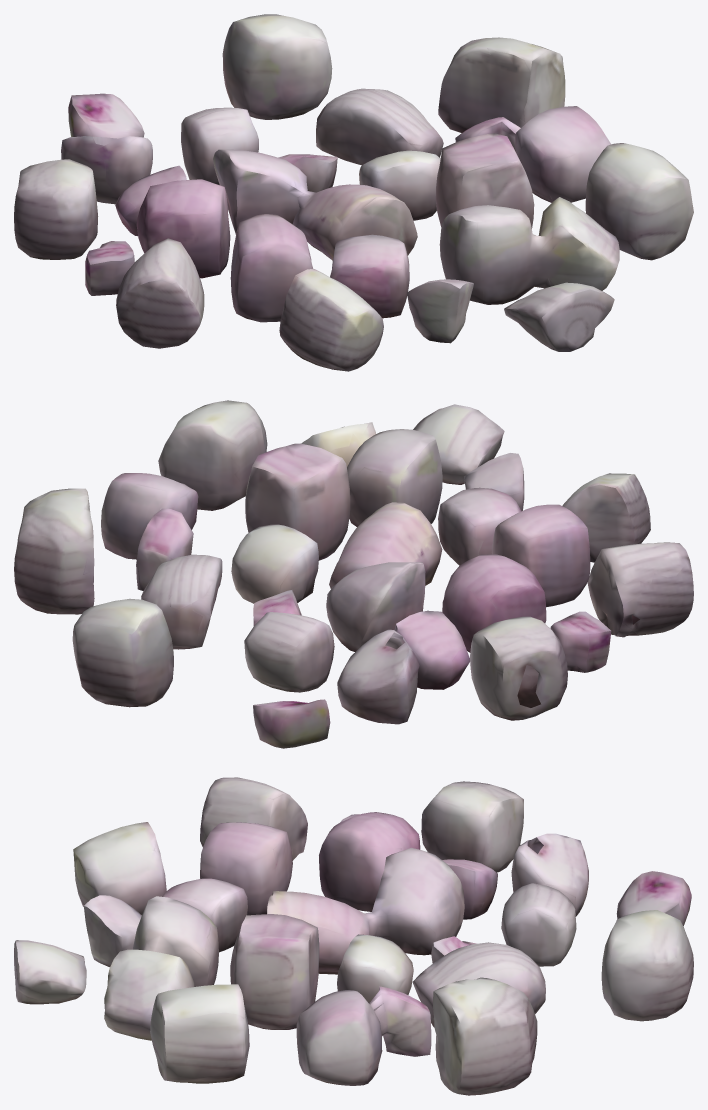
Rendered from onion_chopped.glb.
The picture shows the model from 3 angles, top to bottom: view 1: azimuth 30°, elevation 25°; view 2: azimuth 150°, elevation 25°; view 3: azimuth 270°, elevation 25°; orthographic projection. The views are drawn at different scales.
Visible parts, largest first — view 1: DicedOnion; view 2: DicedOnion; view 3: DicedOnion.
Part boxes in pixels (left/top/right/bottom): DicedOnion: left=14, top=14, right=693, bottom=371; DicedOnion: left=14, top=400, right=693, bottom=748; DicedOnion: left=14, top=777, right=693, bottom=1095.
Bounding box in the file's own units: 0.0139 × 0.00232 × 0.015.
Materials: 1 (1 with a texture image).
